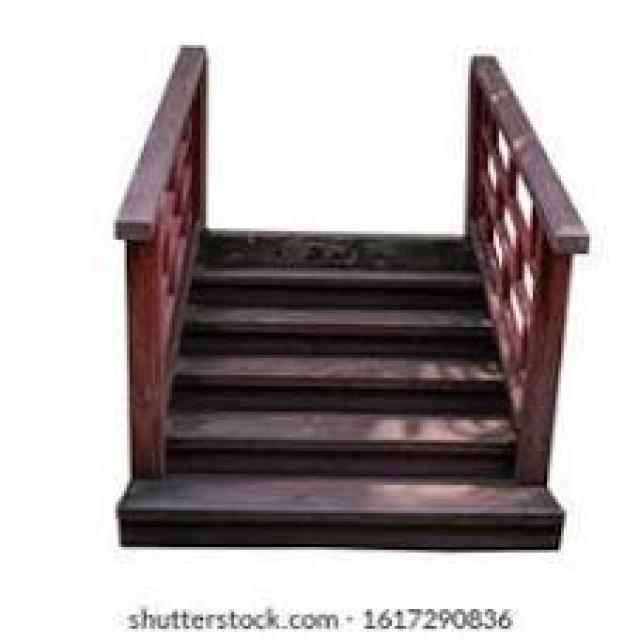upstair: (170, 247, 514, 481)
